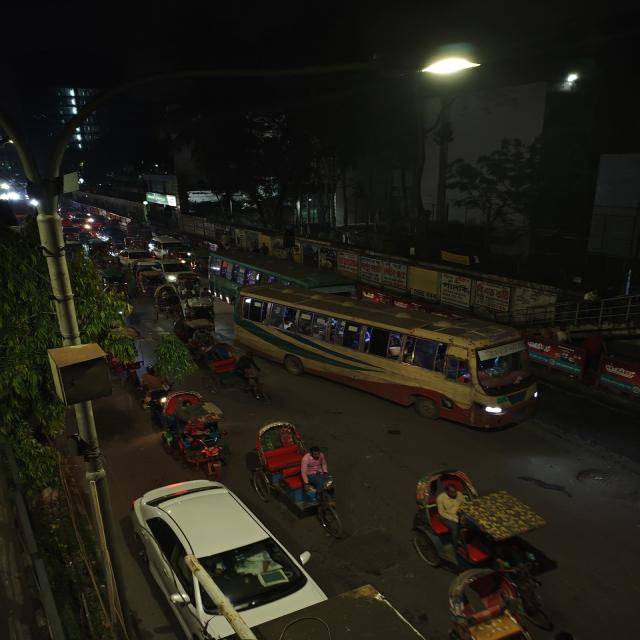bus: (227, 283, 542, 431), (205, 252, 362, 303)
car: (115, 475, 332, 639)
motorcycle: (129, 363, 171, 412)
rickshaw: (399, 466, 570, 575), (247, 414, 353, 534), (435, 562, 552, 640), (156, 390, 231, 478), (199, 341, 272, 401), (173, 314, 220, 354), (150, 284, 184, 322)
